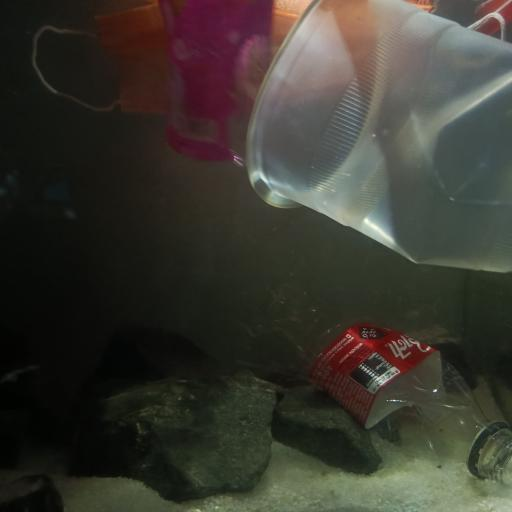mask: (31, 2, 512, 126)
plastic_bottle: (229, 278, 512, 485), (160, 0, 271, 154)
plastic_cup: (243, 0, 512, 276)
